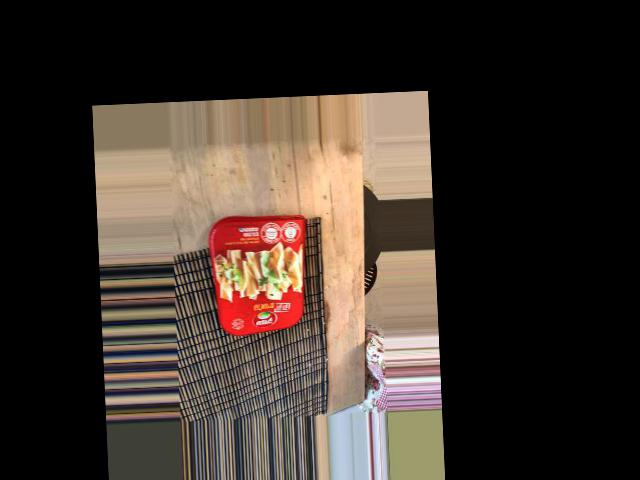cheese: (170, 283, 302, 379)
